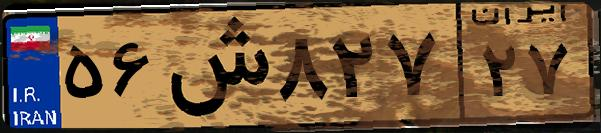2: (330, 28, 385, 110), (475, 38, 525, 113)
5: (57, 26, 110, 100)
6: (110, 28, 158, 98)
7: (385, 28, 445, 110), (525, 38, 570, 115)
8: (270, 28, 330, 110)
ش: (158, 12, 270, 120)
